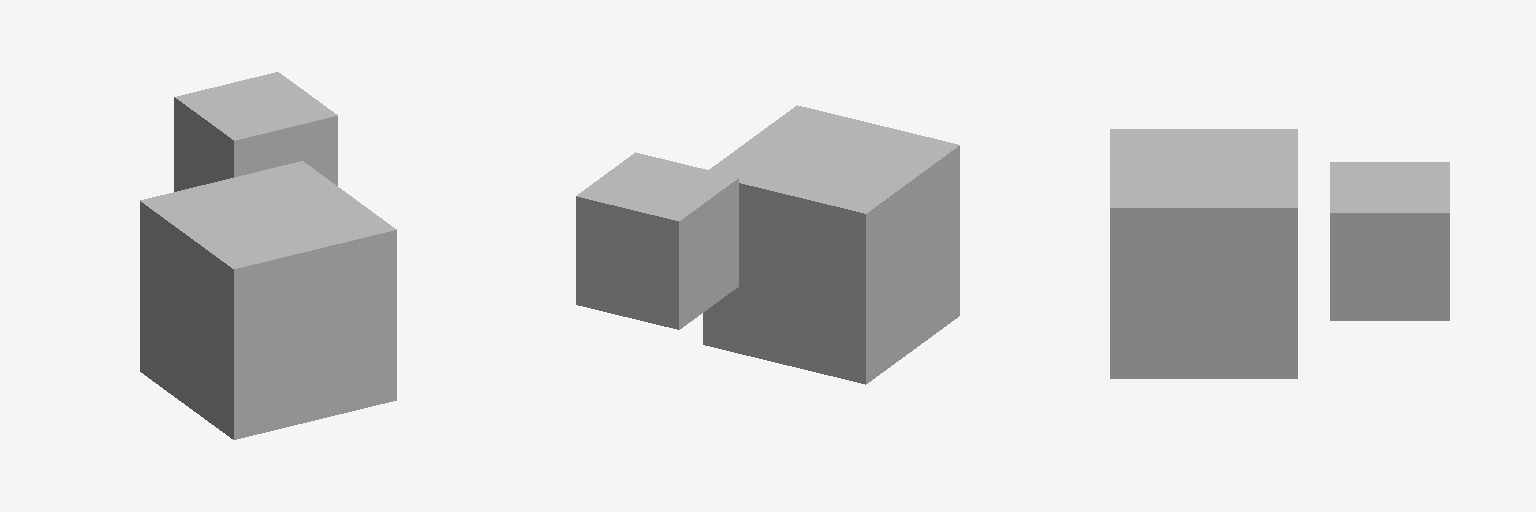
Rendered from cubes.obj.
3 renders of one model, left to right at view 1: azimuth 30°, elevation 25°; view 2: azimuth 150°, elevation 25°; view 3: azimuth 270°, elevation 25°, orthographic.
Parts seen in each view (by area): view 1: Cube, Cube.001; view 2: Cube, Cube.001; view 3: Cube, Cube.001.
Boxes of the visible parts, x1=… form: Cube: x1=140, y1=161, x2=396, y2=439; Cube.001: x1=174, y1=72, x2=337, y2=191; Cube: x1=703, y1=105, x2=959, y2=384; Cube.001: x1=576, y1=152, x2=738, y2=329; Cube: x1=1110, y1=129, x2=1297, y2=378; Cube.001: x1=1330, y1=162, x2=1449, y2=320.
Bounding box in the file's own units: 2.63 × 2.25 × 3.61.